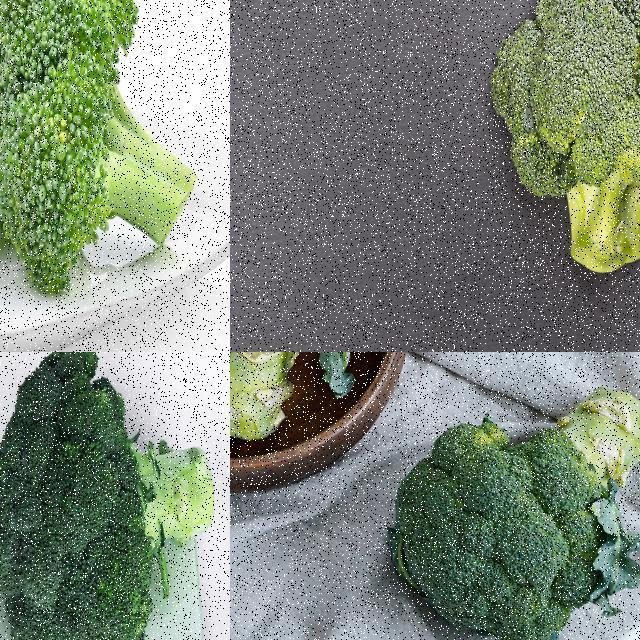broccoli: (0, 352, 217, 639), (397, 384, 639, 639), (0, 0, 196, 309), (487, 0, 639, 280), (230, 352, 417, 438)
